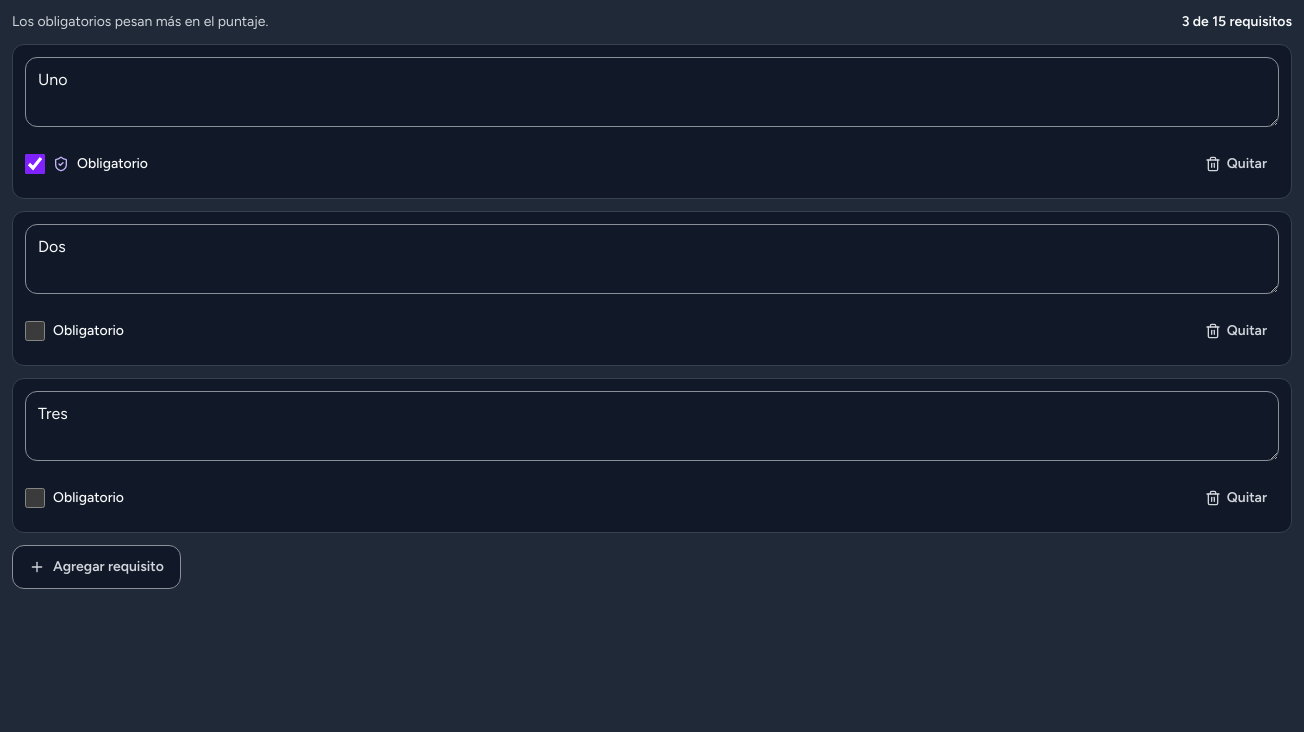
Test: CVRequirementCards › quitar es reversible sin confirmación: aparece "Deshacer" persistente y el foco pasa a la siguiente tarjeta
The width and height of the screenshot is (1304, 732).
Click the button with aria-label "Quitar requisito 1".
click(1236, 164)  # box [1193,142,1279,186]
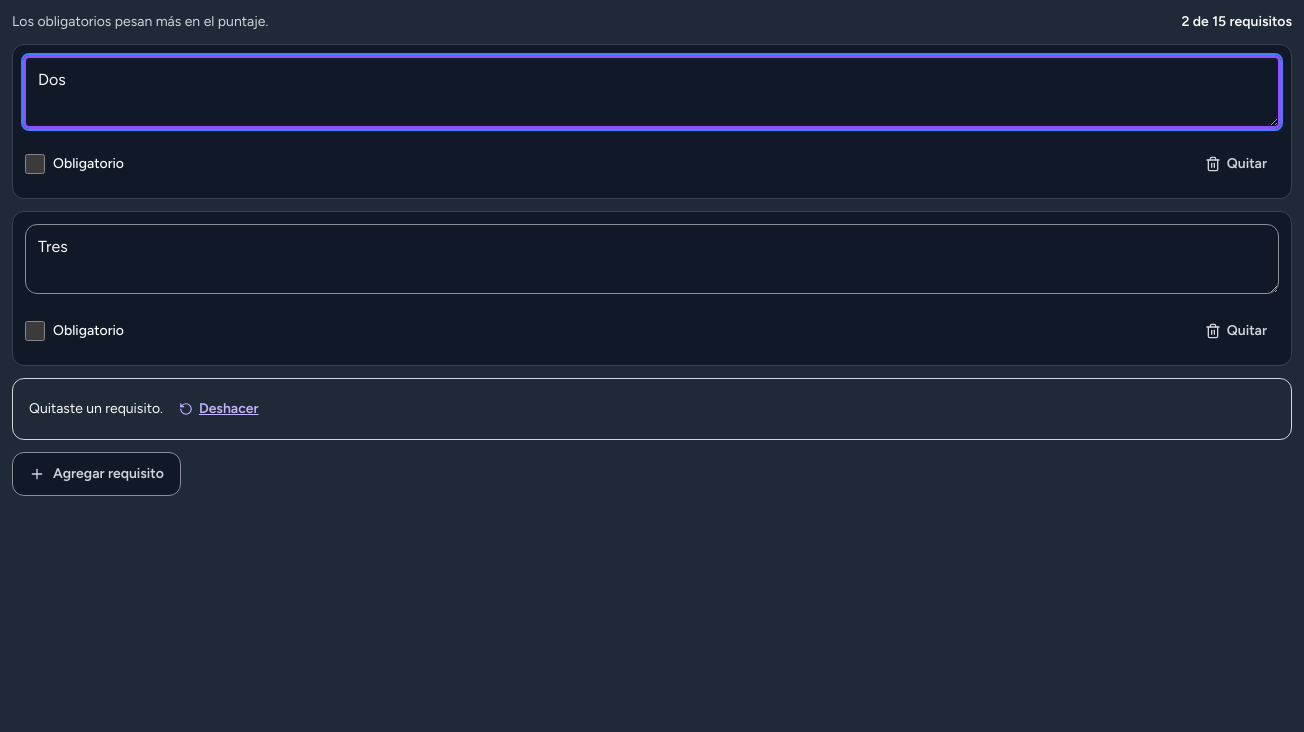
Expected: the 1st text box holds "Dos", [25,57,1279,127]
Now the number of text boxes is 2, box [25,57,1279,127]; [25,224,1279,294]
Now the message reads "Quitaste un requisito.", box [29,400,163,417]
Click the button "Deshacer".
click(219, 409)  # box [175,387,262,431]
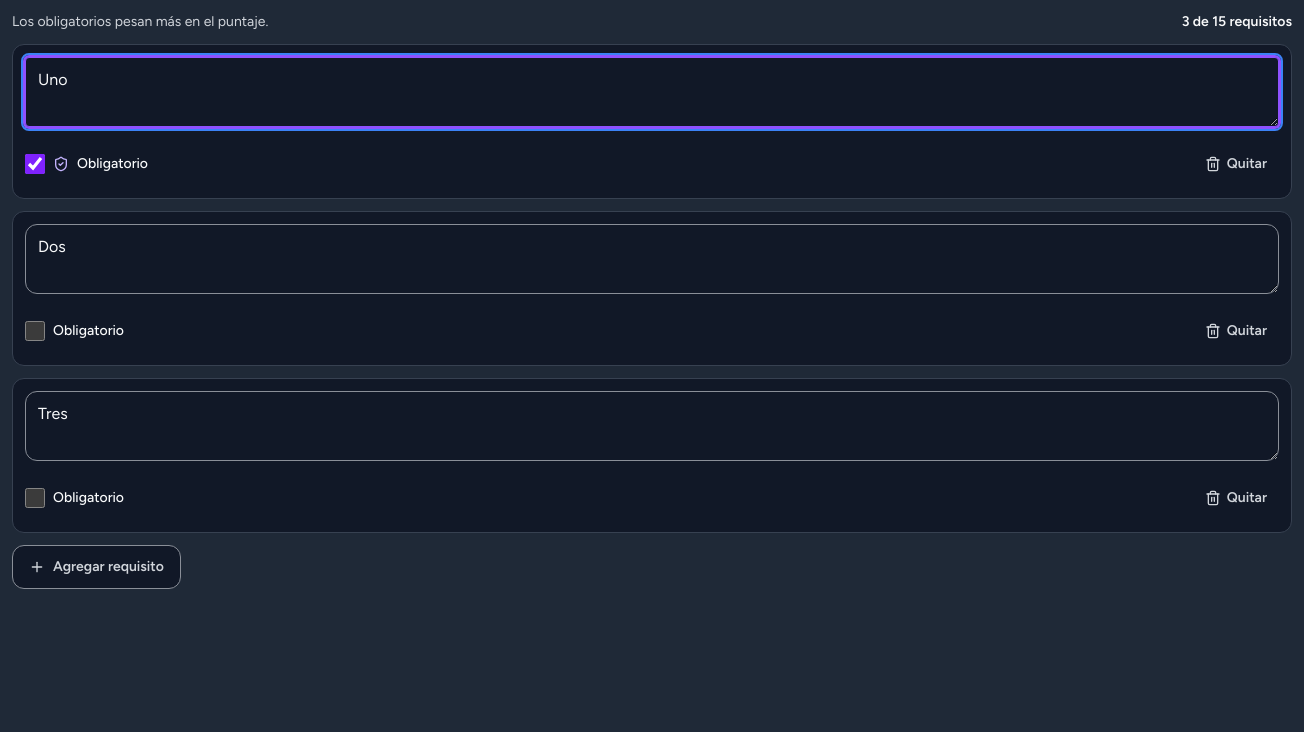
Now the number of text boxes is 3, box [25,57,1279,127]; [25,224,1279,294]; [25,391,1279,461]
Now the 1st text box holds "Uno", box [25,57,1279,127]
Now the text "Quitaste un requisito." is gone
